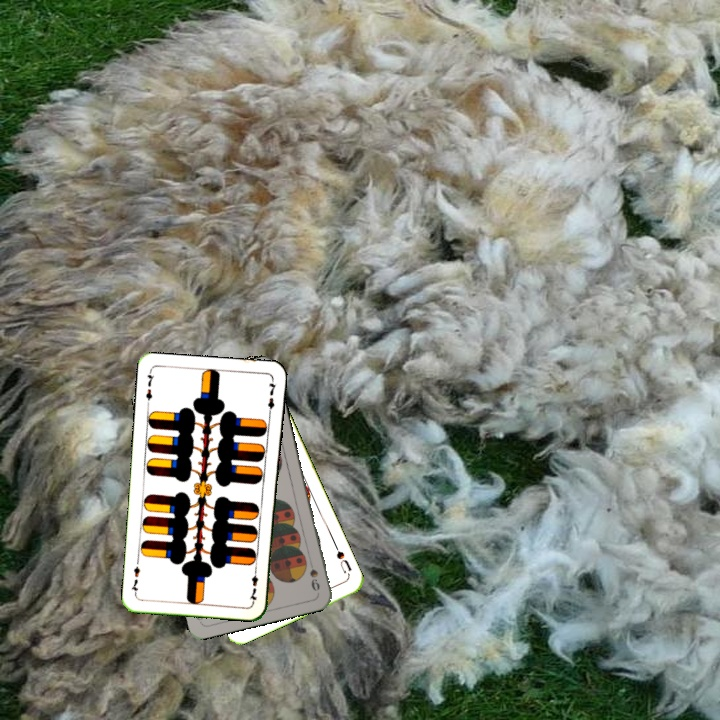E7: (246, 564, 261, 604), (142, 368, 157, 408)
S9: (306, 554, 322, 594)
SU: (330, 541, 354, 579)
